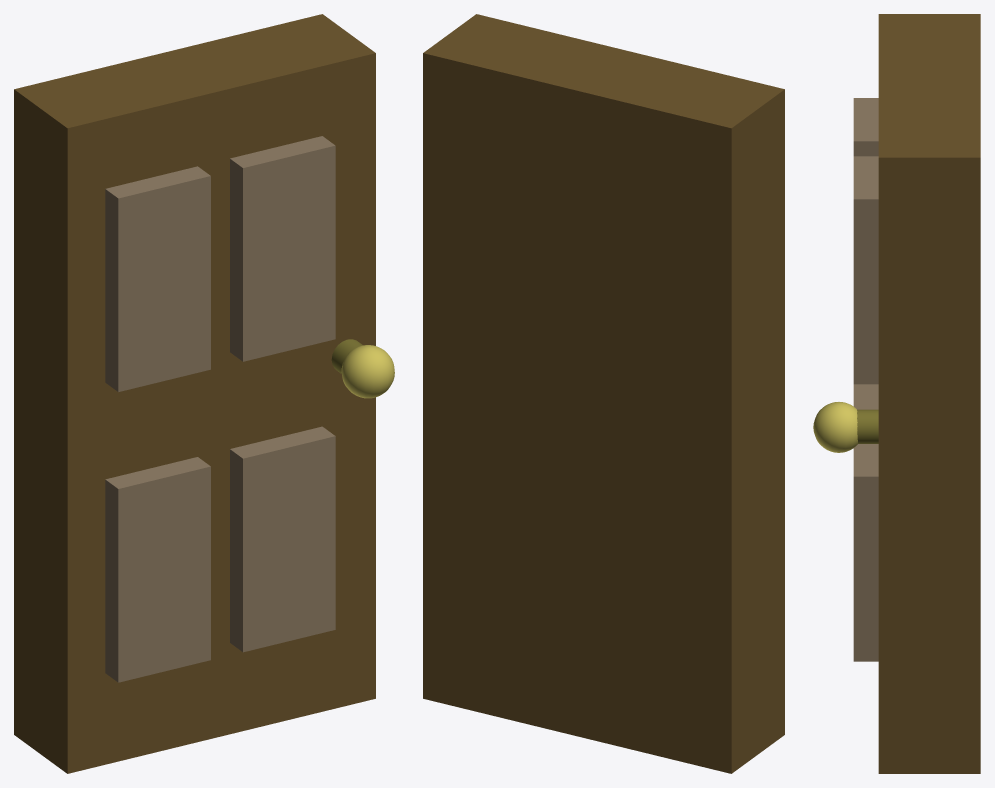
Rendered from Door.fbx.
3 views of the same model, side by side, from view 1: azimuth 30°, elevation 25°; view 2: azimuth 150°, elevation 25°; view 3: azimuth 270°, elevation 25° (orthographic). The views are drawn at different scales.
Visible parts, largest first — view 1: Door, Door_Frame_2, pasted__Door_Frame_1, Door_Frame_1, pasted__Door_Frame_2, pSphere2; view 2: Door; view 3: Door, Door_Frame_2, pasted__Door_Frame_2, pSphere2, Door_Frame_1, Nob, pasted__Door_Frame_1.
Boxes of the visible parts, left/top/right/bottom form: Door: left=14, top=14, right=375, bottom=773; Door_Frame_2: left=230, top=136, right=335, bottom=361; pasted__Door_Frame_1: left=105, top=457, right=210, bottom=682; Door_Frame_1: left=105, top=166, right=210, bottom=391; pasted__Door_Frame_2: left=230, top=426, right=335, bottom=652; pSphere2: left=341, top=345, right=394, bottom=398; Door: left=423, top=14, right=784, bottom=773; Door: left=878, top=14, right=980, bottom=773; Door_Frame_2: left=853, top=156, right=878, bottom=384; pasted__Door_Frame_2: left=853, top=444, right=878, bottom=661; pSphere2: left=813, top=402, right=857, bottom=452; Door_Frame_1: left=853, top=98, right=878, bottom=156; Nob: left=857, top=409, right=878, bottom=443; pasted__Door_Frame_1: left=853, top=384, right=878, bottom=409.
Bounding box in the file's own units: 2.5 × 5 × 1.23.
